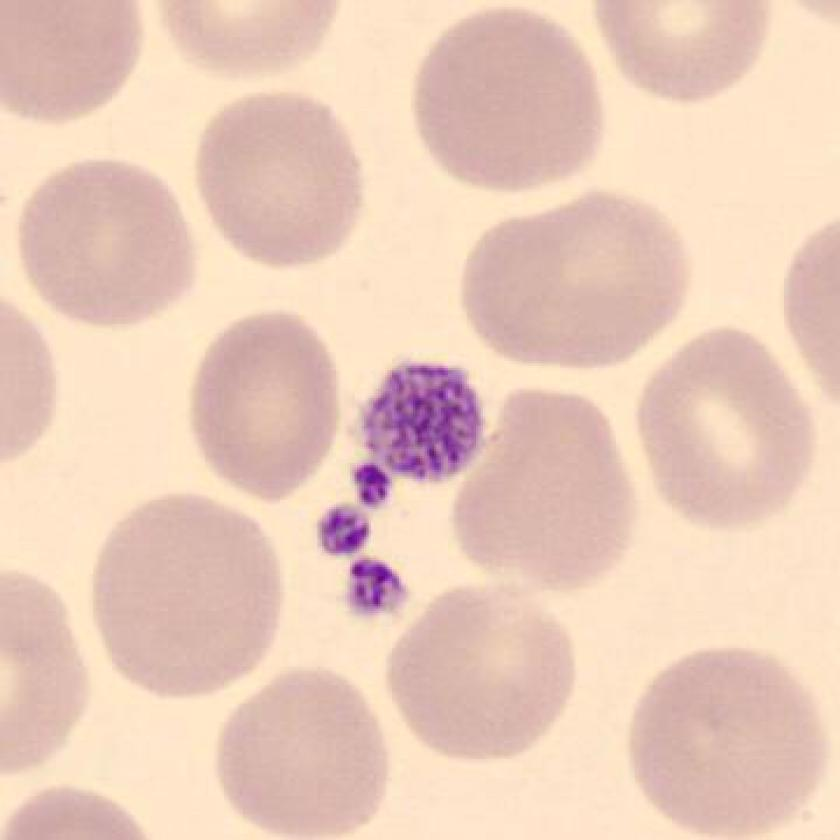platelets: (346, 355, 510, 492), (337, 550, 423, 628), (300, 496, 386, 570), (342, 453, 405, 527)
